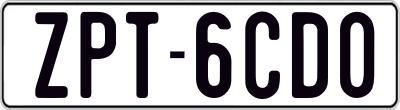0: (337, 12, 377, 100)
6: (196, 10, 236, 96)
C: (244, 10, 281, 103)
D: (292, 11, 334, 101)
P: (77, 11, 116, 98)
T: (125, 9, 161, 98)
Z: (34, 9, 72, 95)
